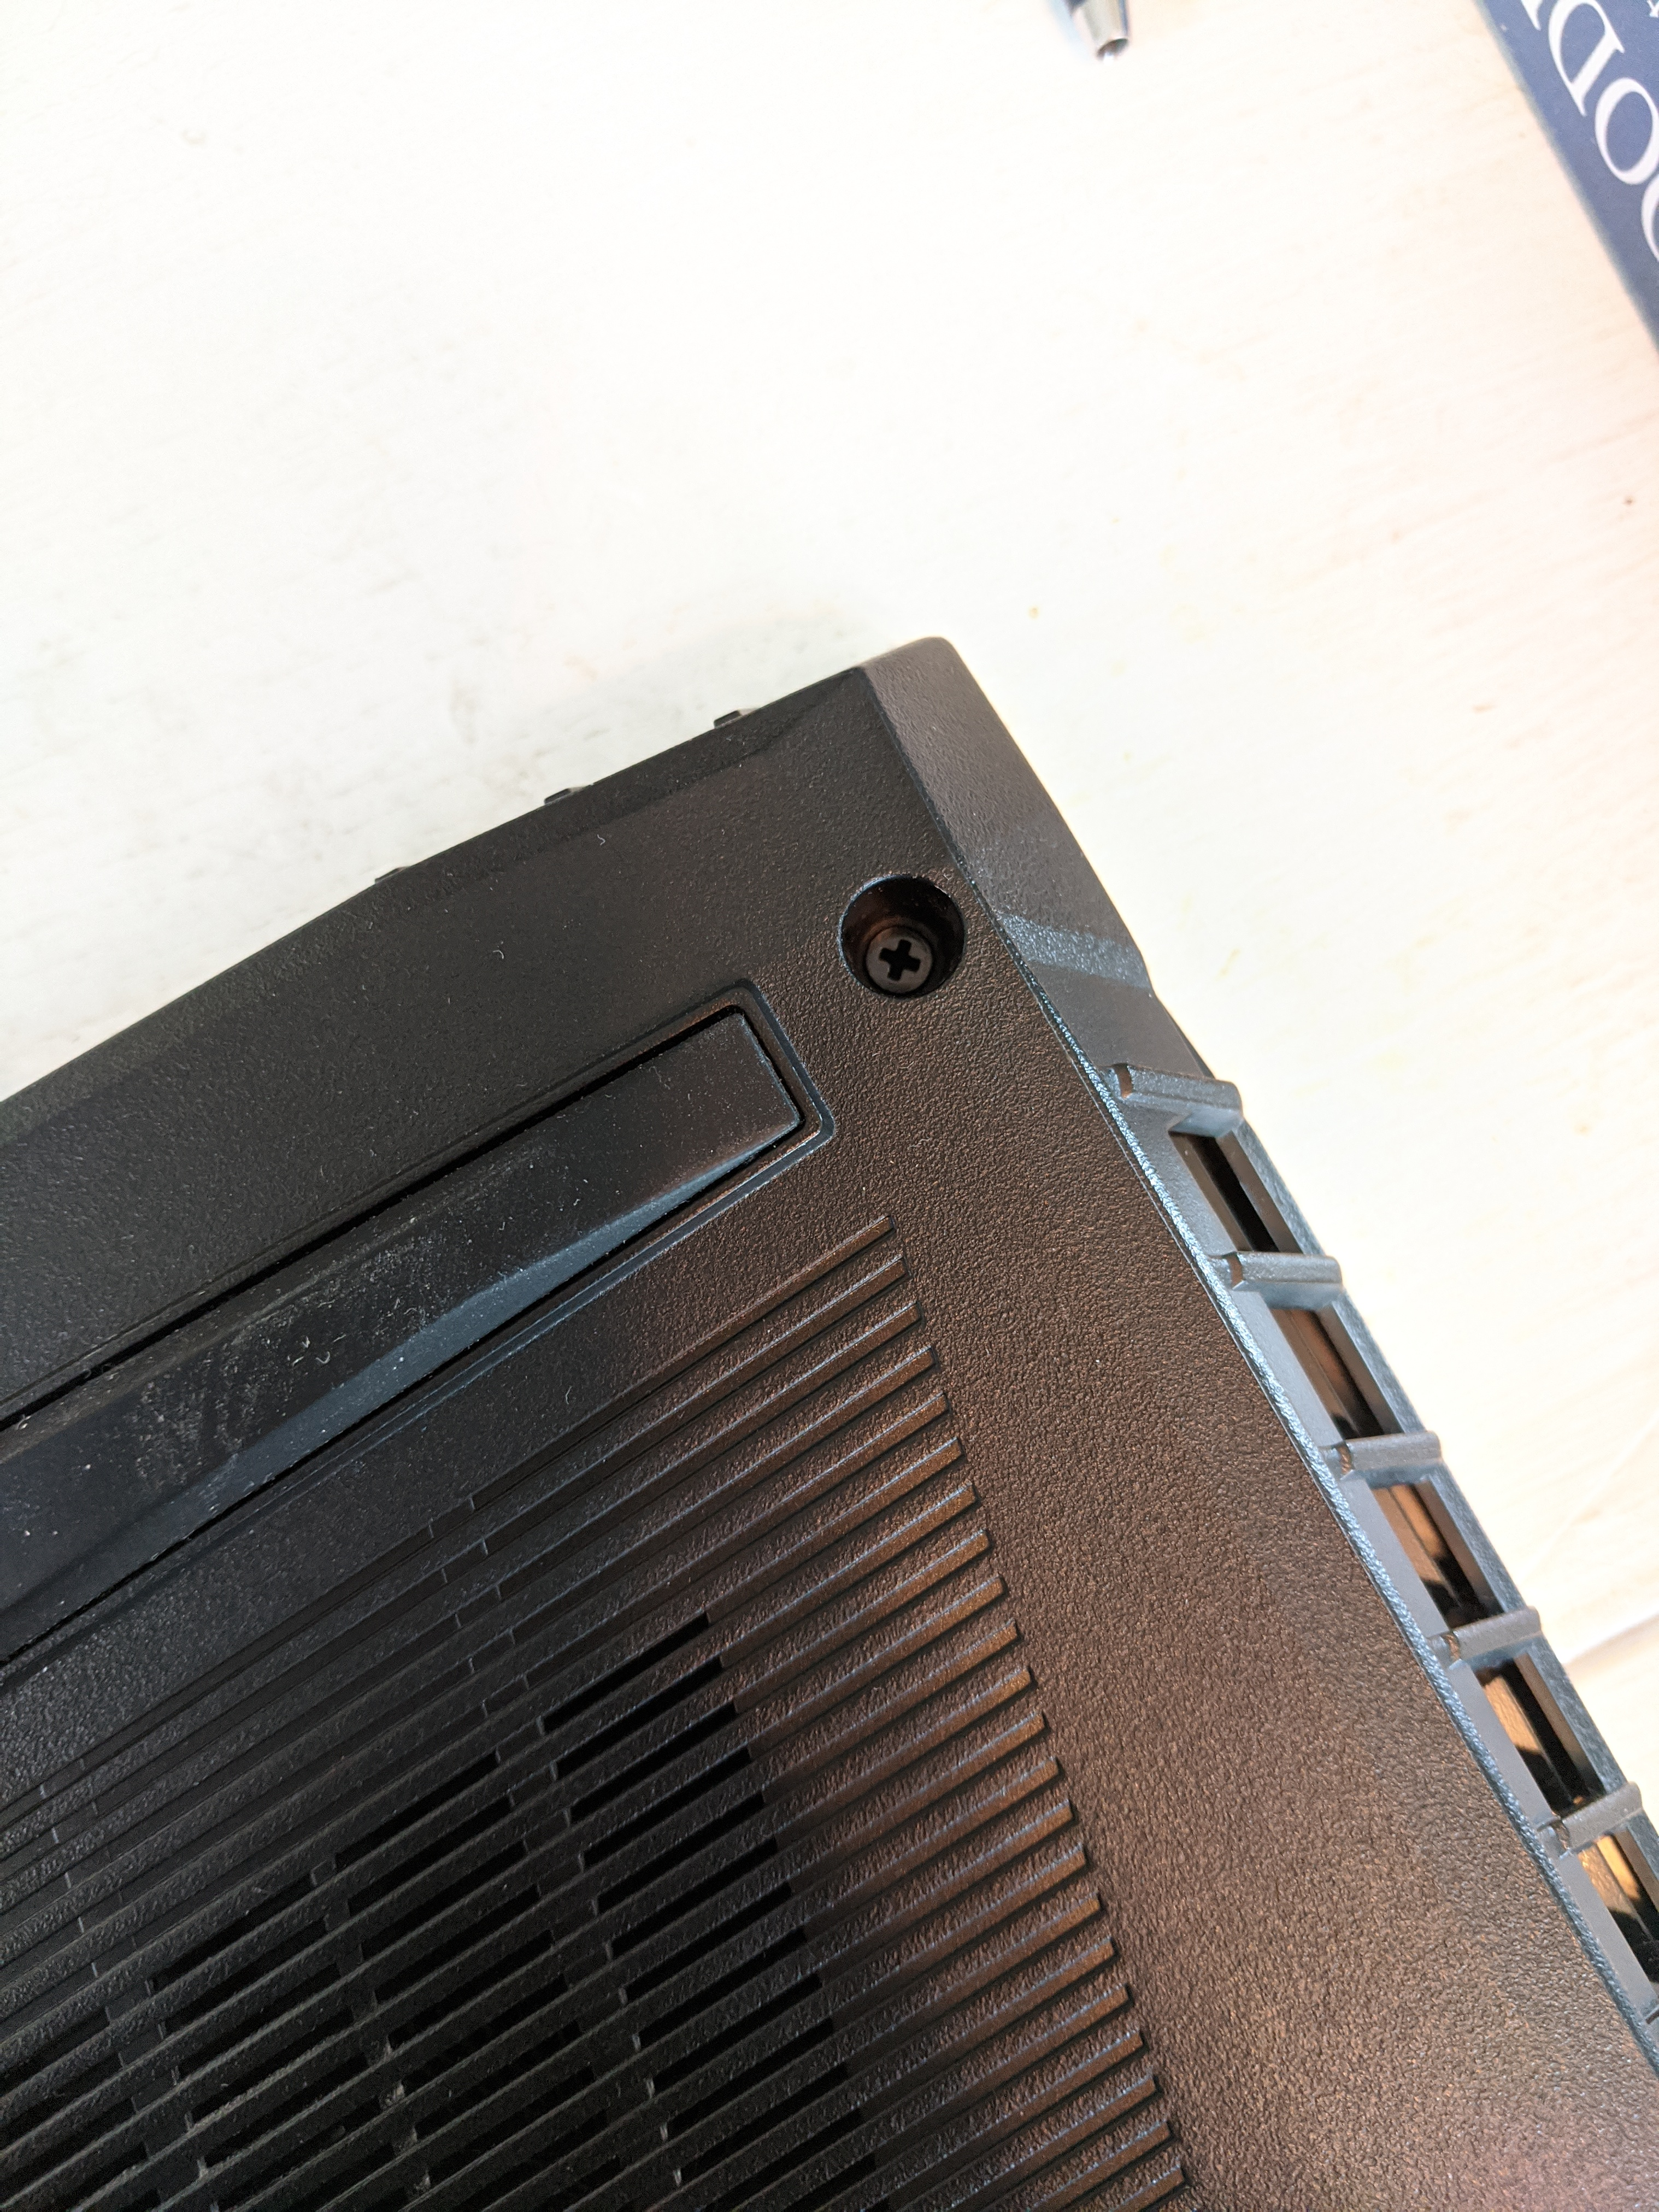cross_recessed_screw: (842, 902, 955, 1001)
